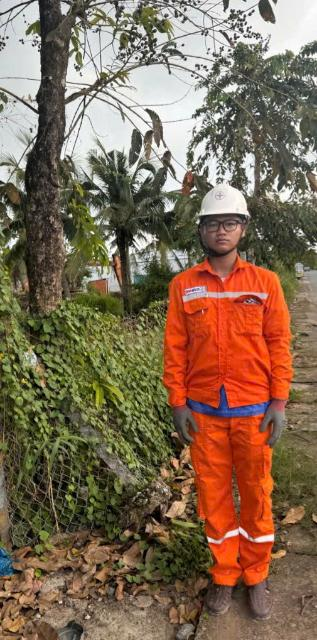gloves: (151, 404, 200, 462), (257, 392, 293, 453)
helmet: (192, 175, 251, 229)
shoes: (186, 556, 236, 629), (251, 548, 278, 628)
